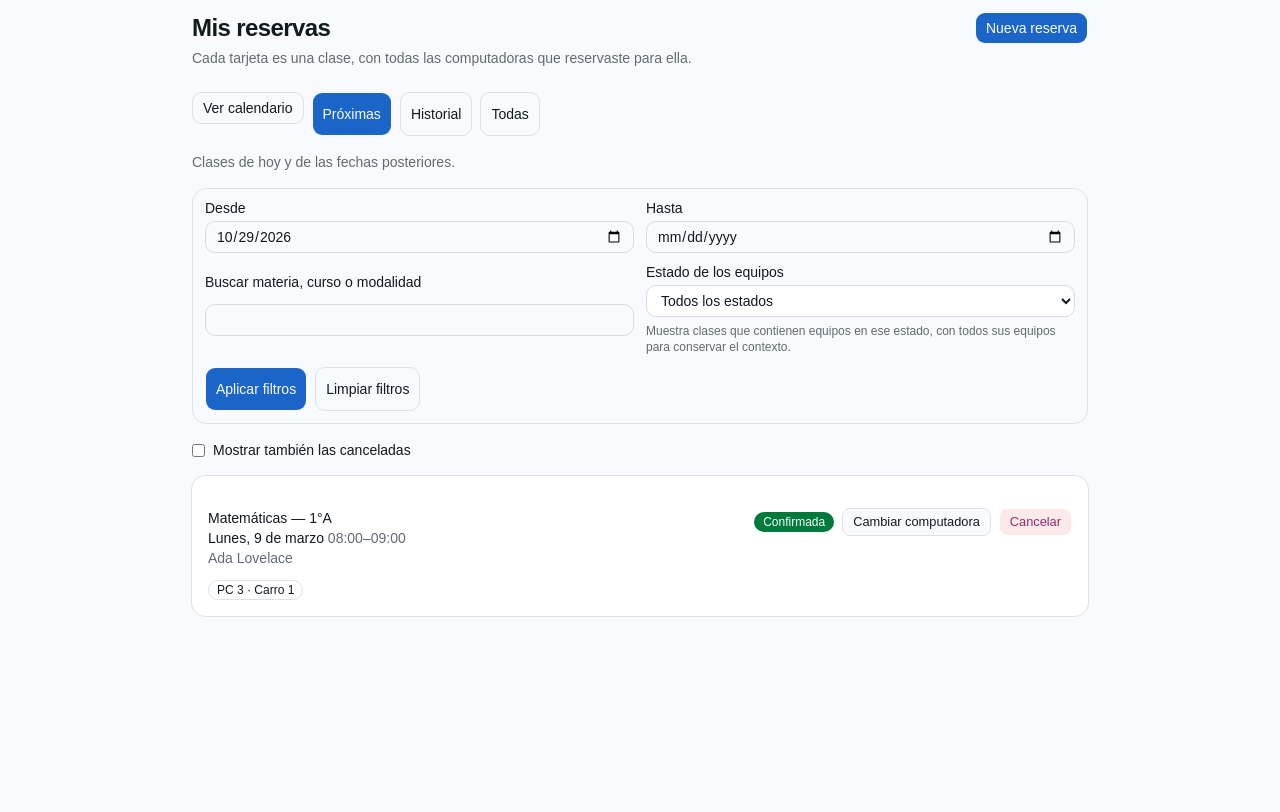
Test: MisReservasPage › cancelación › con un solo equipo, el aviso está bien escrito
What coordinates should you click on to do the following:
click the button "Cancelar"
I would click on:
 (1035, 522)
Its box is [999, 508, 1072, 536].
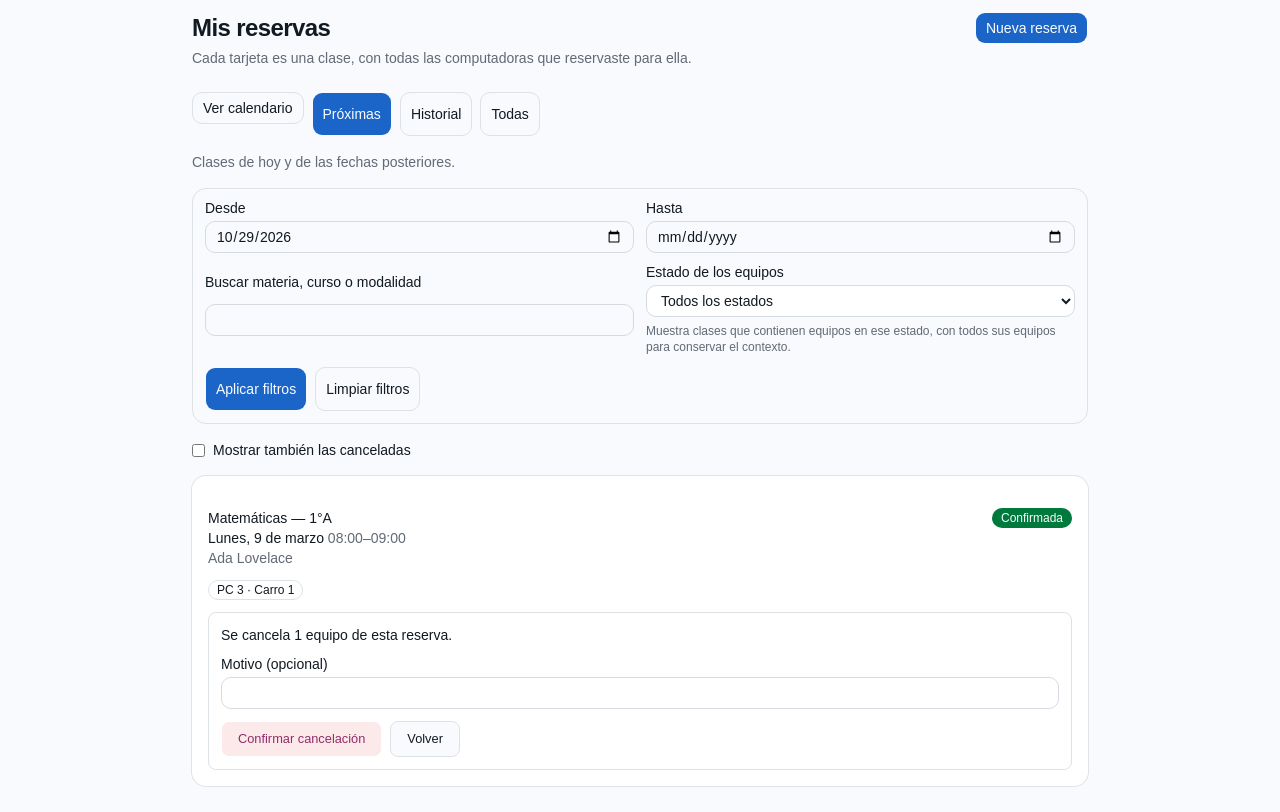
expect the text "Se cancela 1 equipo de esta reserva." is shown: met, box [221, 627, 452, 643]
